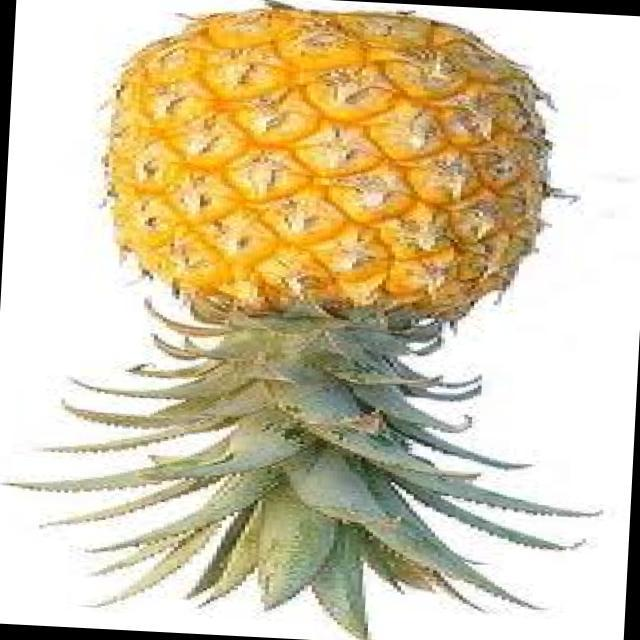Pineapple: (0, 0, 625, 640)
